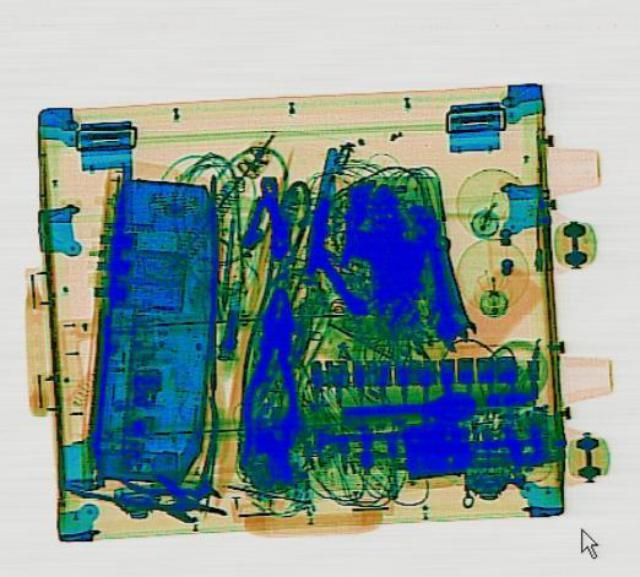Pliers: (98, 394, 270, 529), (233, 285, 307, 464)
Wrench: (418, 238, 470, 351)
